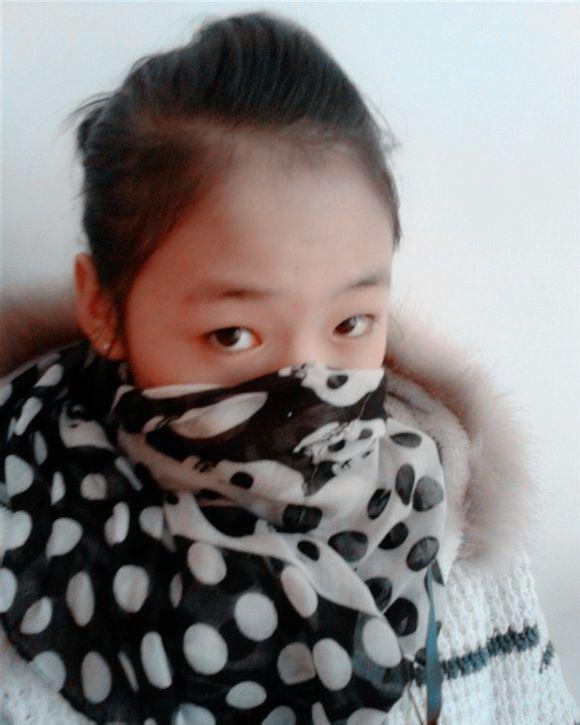OK: (146, 227, 399, 480)
